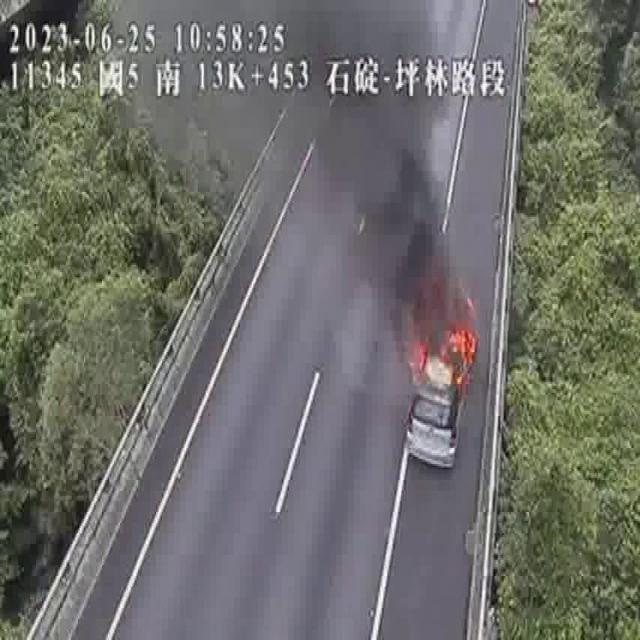Fire: (408, 314, 481, 388)
Smoke: (368, 127, 473, 332)
